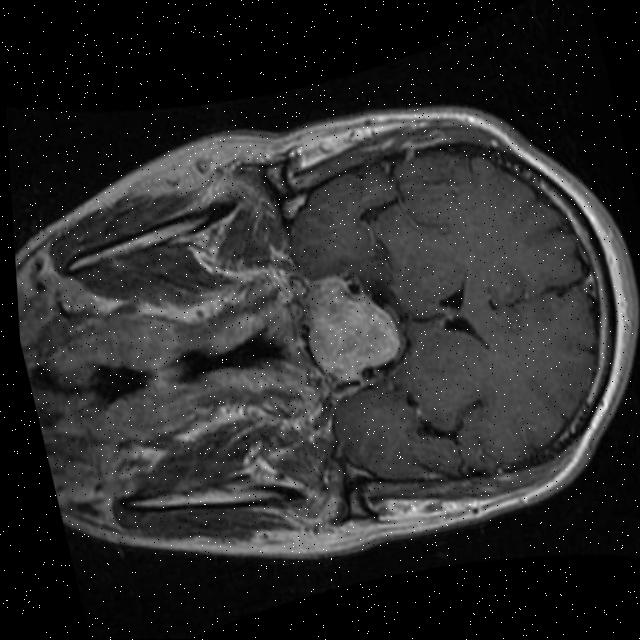Pituitary: (294, 266, 406, 385)
